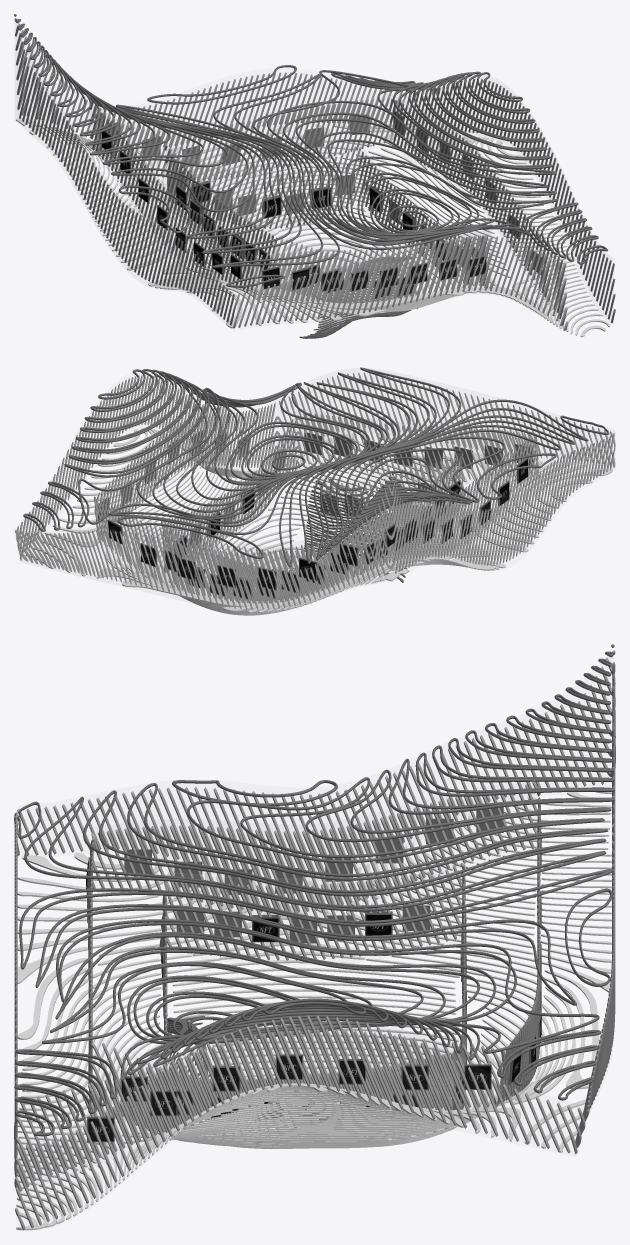
The picture shows the model from 3 angles, top to bottom: view 1: azimuth 30°, elevation 25°; view 2: azimuth 150°, elevation 25°; view 3: azimuth 270°, elevation 25°; orthographic projection. The views are drawn at different scales.
Visible parts, largest first — view 1: MODEL; view 2: MODEL; view 3: MODEL.
Boxes of the visible parts, left/top/right/bottom form: MODEL: left=14, top=14, right=615, bottom=338; MODEL: left=15, top=367, right=615, bottom=615; MODEL: left=14, top=644, right=615, bottom=1230.
Size of what is drawn, in the model's own units: 47.96 by 29.81 by 47.9.
Materials: 5 (1 with a texture image).
